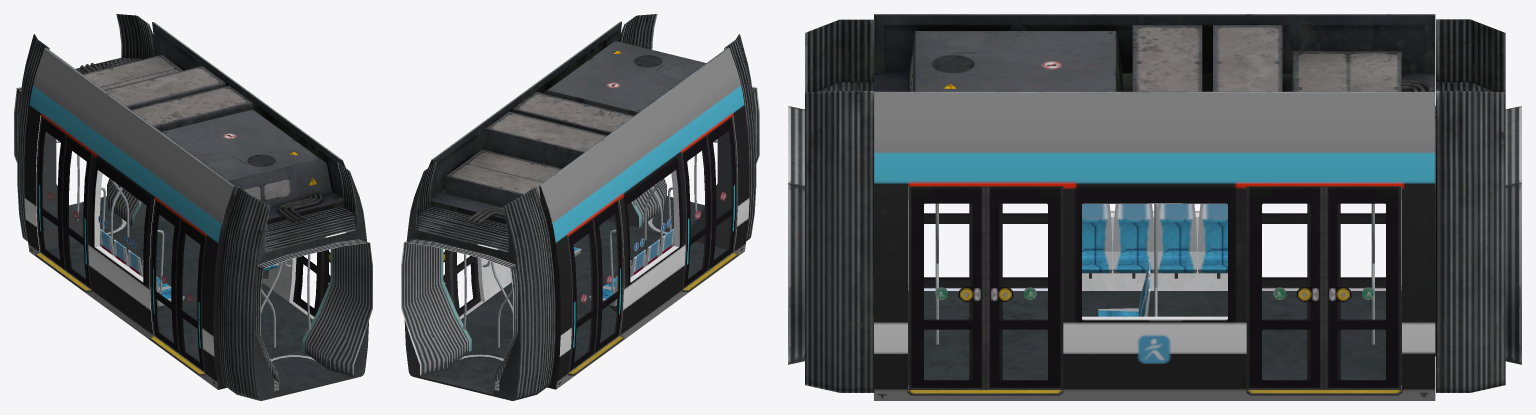
The model's file is urbosd.obj.
The picture shows the model from 3 angles, left to right: view 1: azimuth 30°, elevation 25°; view 2: azimuth 150°, elevation 25°; view 3: azimuth 270°, elevation 25°; orthographic projection. The views are drawn at different scales.
Visible parts, largest first — view 1: body_6_lod0, int_6_lod0, d17, d20, d19, d18, d14, d13; view 2: body_6_lod0, int_6_lod0, d20, d17, d18, d19, d15, d16; view 3: body_6_lod0, int_6_lod0, d14, d16, d15, d13, d19, d18, d20, d17.
Boxes of the visible parts, box(x1,y1,x2,y2) form: body_6_lod0: box(17, 14, 368, 400); int_6_lod0: box(14, 86, 372, 394); d17: box(36, 116, 66, 270); d20: box(176, 218, 206, 372); d19: box(150, 199, 180, 353); d18: box(62, 135, 92, 289); d14: box(293, 251, 322, 316); d13: box(321, 249, 330, 302); body_6_lod0: box(404, 14, 756, 400); int_6_lod0: box(401, 86, 759, 394); d20: box(707, 116, 737, 270); d17: box(567, 218, 597, 372); d18: box(593, 199, 623, 354); d19: box(681, 135, 711, 289); d15: box(451, 251, 480, 316); d16: box(443, 249, 452, 302); body_6_lod0: box(805, 14, 1505, 400); int_6_lod0: box(788, 106, 1521, 388); d14: box(985, 186, 1063, 389); d16: box(1323, 186, 1401, 389); d15: box(1246, 186, 1324, 389); d13: box(908, 186, 986, 389); d19: box(1002, 213, 1047, 288); d18: box(1262, 213, 1307, 288); d20: box(924, 213, 969, 288); d17: box(1340, 213, 1385, 288).
Size of the model in its own units: 2.7 by 3.39 by 7.59.
2 materials, 2 textured.
